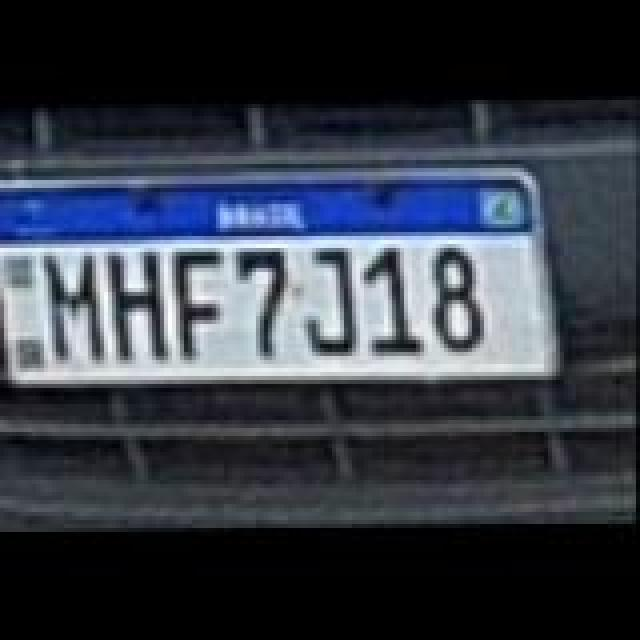1: (364, 246, 432, 362)
7: (232, 246, 292, 362)
8: (428, 246, 496, 358)
F: (172, 248, 232, 364)
H: (104, 246, 172, 366)
J: (302, 248, 366, 368)
M: (40, 248, 108, 368)
